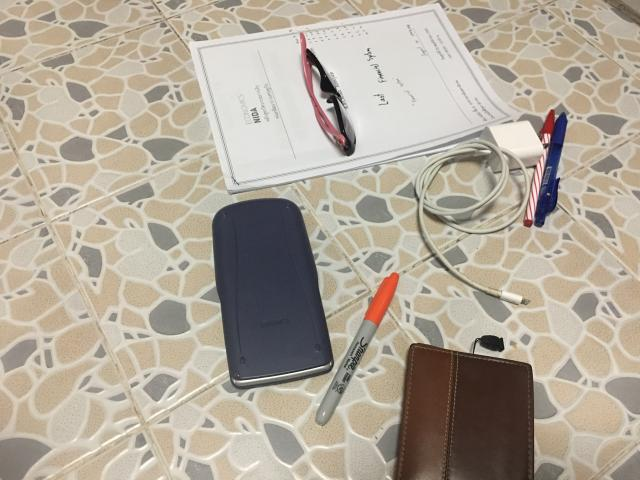Glasses: (300, 32, 356, 156)
Pen: (315, 272, 399, 425), (534, 112, 568, 228), (524, 110, 555, 228)
Wallet: (396, 344, 534, 480)
paper: (189, 4, 518, 192)
wire: (415, 121, 544, 305)
